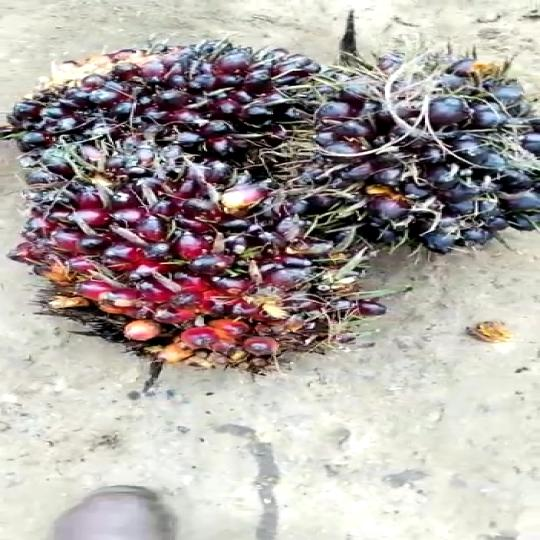kurang masak: (0, 43, 540, 377)
